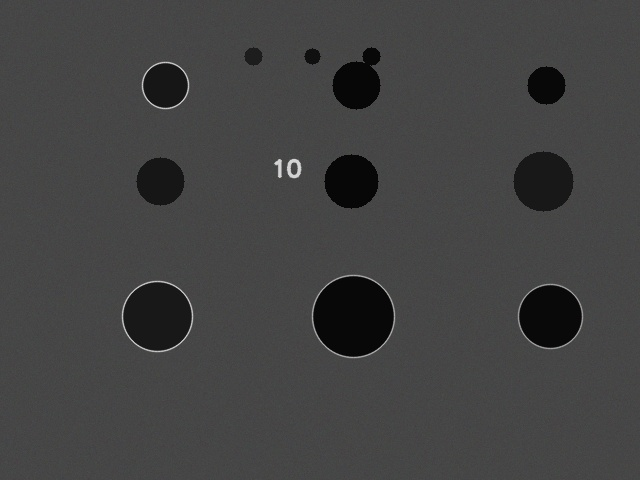hole: (312, 275, 394, 357), (122, 281, 192, 351), (518, 284, 582, 348), (513, 151, 573, 211), (324, 154, 378, 208), (332, 61, 380, 109), (136, 157, 184, 205), (142, 62, 188, 108), (527, 66, 565, 104), (244, 47, 262, 65), (362, 47, 380, 65), (304, 48, 320, 64)
